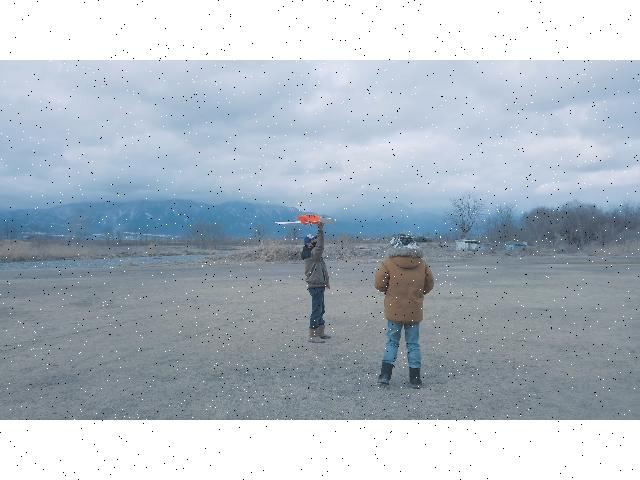Anti-Drone: (274, 212, 338, 227)
